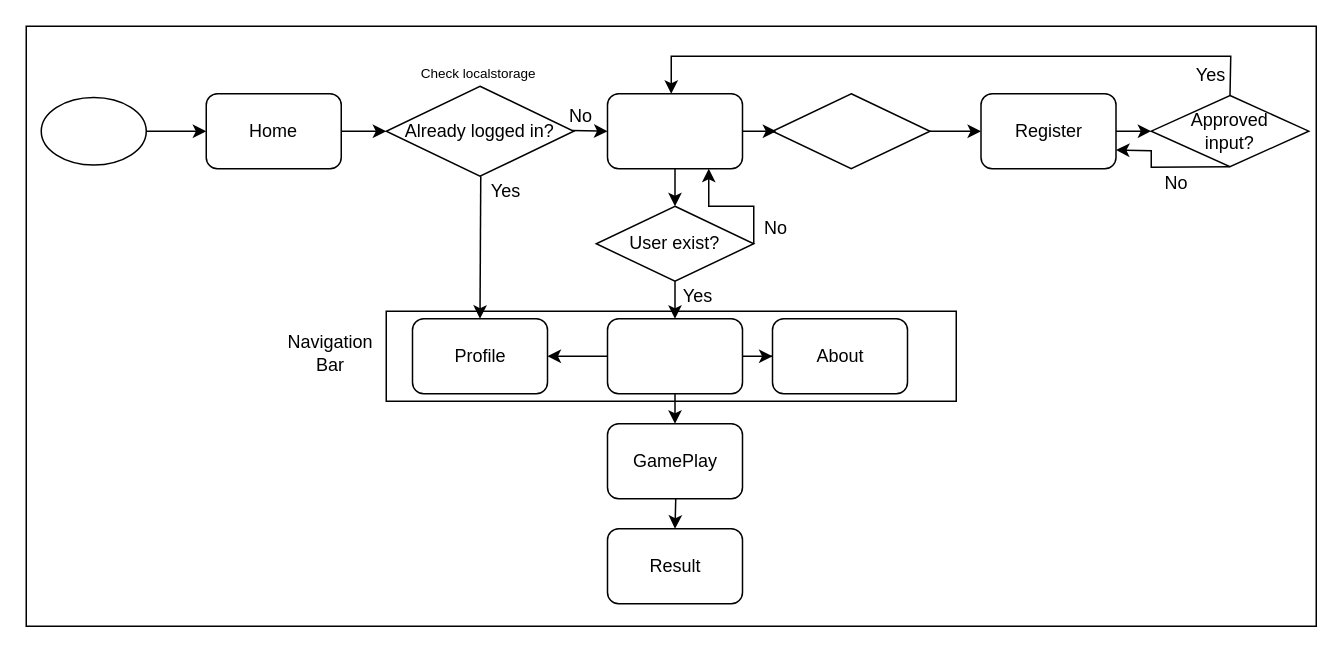
Some shapes in this 1343 by 653 pixel diagram are drawn without their labels. The centre of each missing label's shape, as x and y in pixels:
"GameOverview" goes at point 674,355.
"Login" goes at point 674,130.
"New user?" goes at point 850,130.
"Start" goes at point 93,130.
